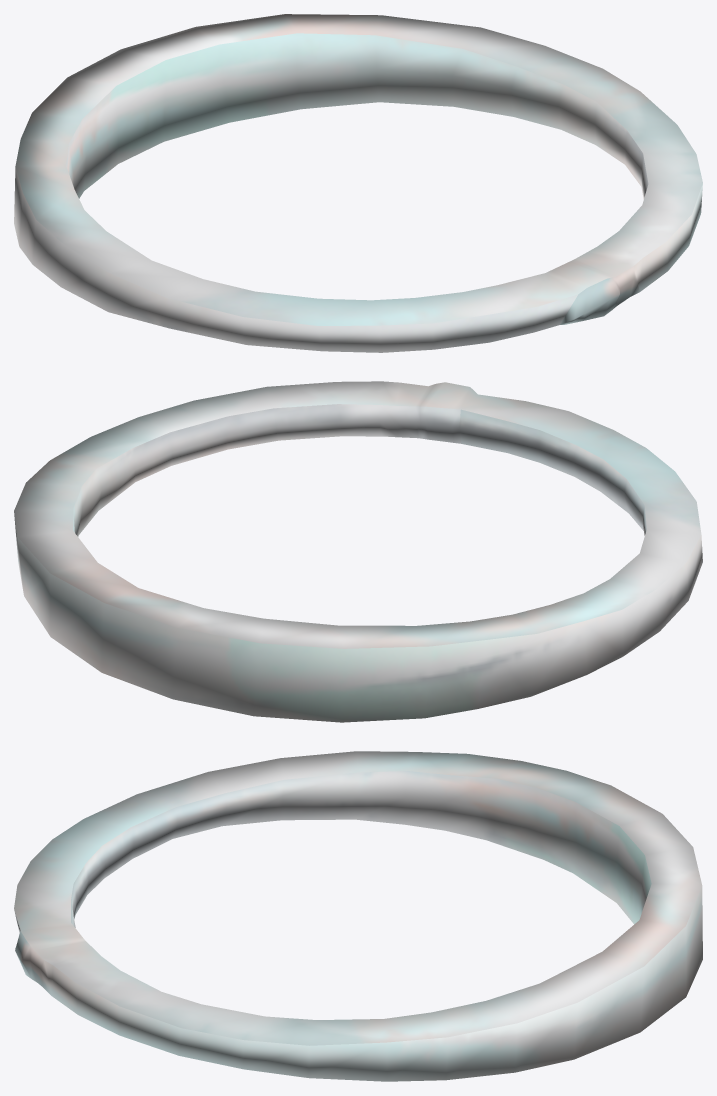
The model's file is S_Voile_Attache_LP.fbx.
3 views of the same model, one above another, from view 1: azimuth 30°, elevation 25°; view 2: azimuth 150°, elevation 25°; view 3: azimuth 270°, elevation 25° (orthographic).
Visible parts, largest first — view 1: S_Voile_Attache_LP; view 2: S_Voile_Attache_LP; view 3: S_Voile_Attache_LP.
Part boxes in pixels (x1,y1,x2,y2): S_Voile_Attache_LP: (14, 14, 702, 352); S_Voile_Attache_LP: (14, 381, 702, 722); S_Voile_Attache_LP: (14, 751, 702, 1081).
Bounding box in the file's own units: 0.5178 × 0.0654 × 0.522.
